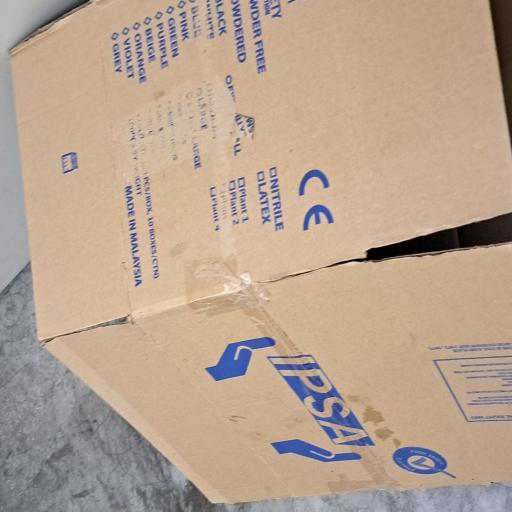cardboard: (3, 7, 384, 512)
